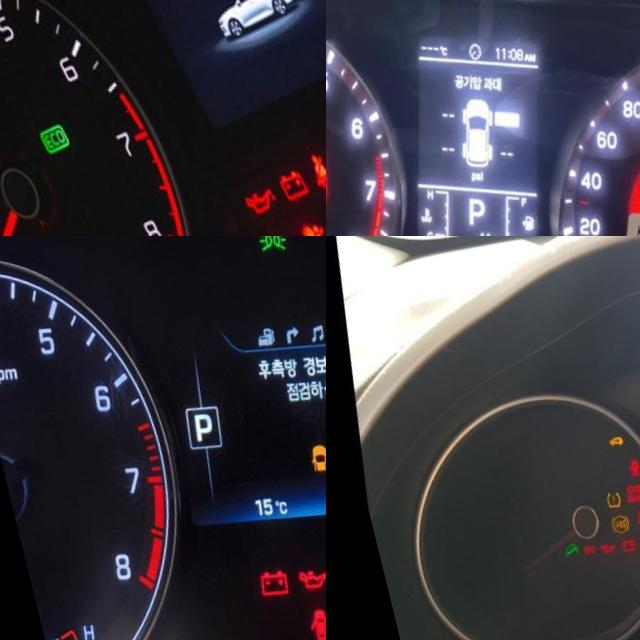Central Warning lamp: (312, 330, 326, 357)
Doors: (276, 616, 306, 640), (609, 468, 626, 487)
SideLamp: (245, 236, 279, 268)
